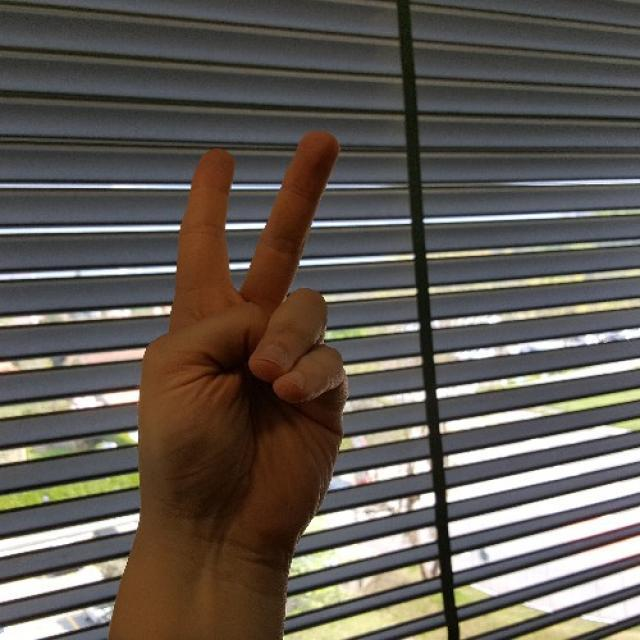scissors: (137, 128, 350, 510)
